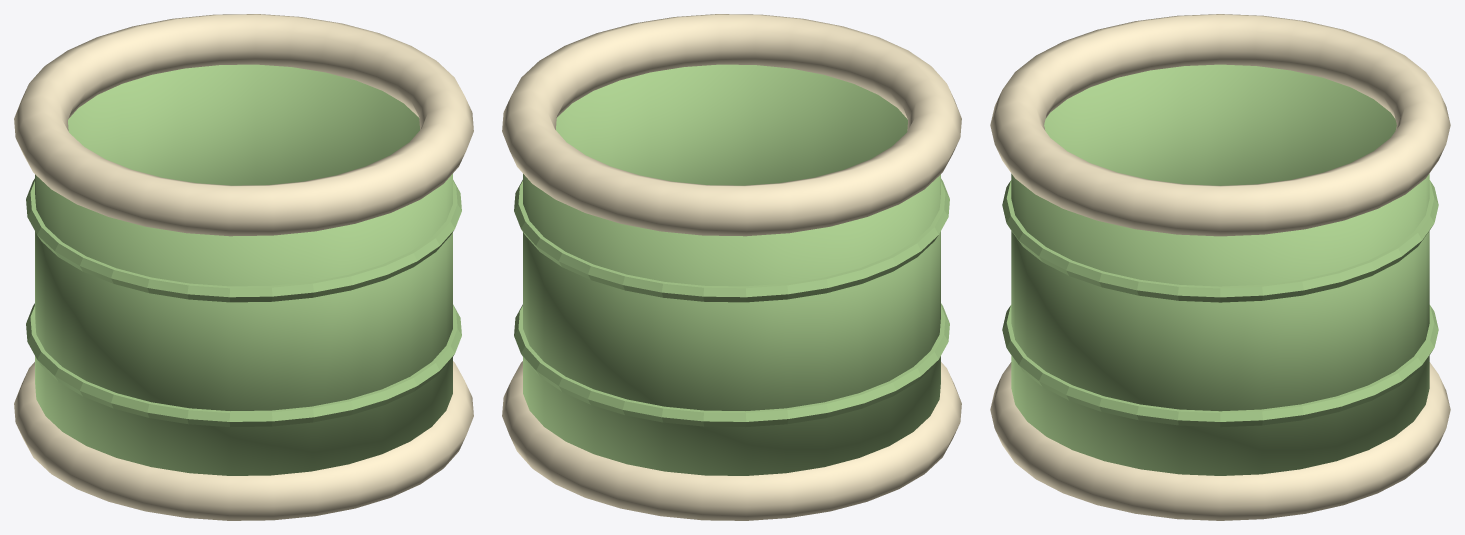
3 renders of one model, left to right at view 1: azimuth 30°, elevation 25°; view 2: azimuth 150°, elevation 25°; view 3: azimuth 270°, elevation 25°, orthographic.
Visible parts, largest first — view 1: leg-wraps, Torus.001, Torus, Torus.003, Torus.002; view 2: leg-wraps, Torus.001, Torus, Torus.003, Torus.002; view 3: leg-wraps, Torus.001, Torus, Torus.002, Torus.003.
Boxes of the visible parts, x1,y1,x2,y2 form: leg-wraps: [35, 64, 452, 475]; Torus.001: [14, 14, 473, 236]; Torus: [14, 361, 473, 520]; Torus.003: [26, 178, 461, 302]; Torus.002: [26, 303, 461, 427]; leg-wraps: [523, 64, 940, 475]; Torus.001: [502, 14, 961, 236]; Torus: [502, 361, 961, 520]; Torus.003: [514, 178, 949, 302]; Torus.002: [514, 303, 949, 427]; leg-wraps: [1011, 64, 1429, 475]; Torus.001: [990, 14, 1450, 236]; Torus: [990, 362, 1450, 520]; Torus.002: [1002, 305, 1438, 427]; Torus.003: [1002, 180, 1438, 302].
Bounding box in the file's own units: 0.154 × 0.123 × 0.154.
